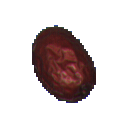gd: (25, 17, 110, 109)
